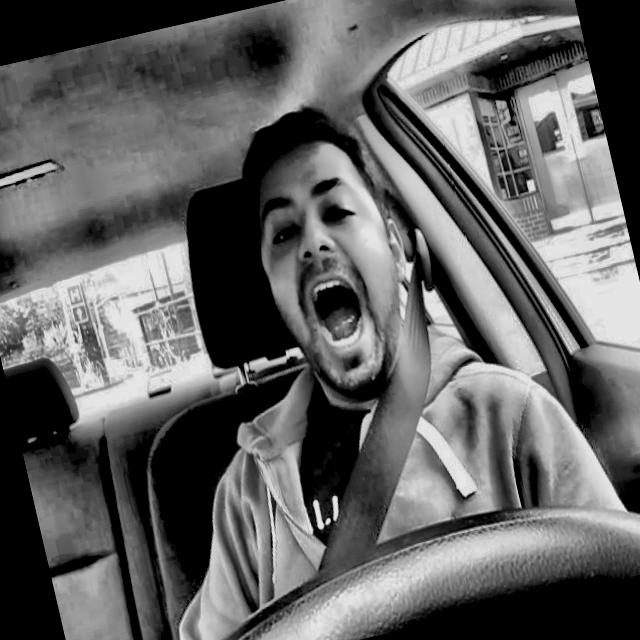open_mouth: (291, 266, 375, 368)
